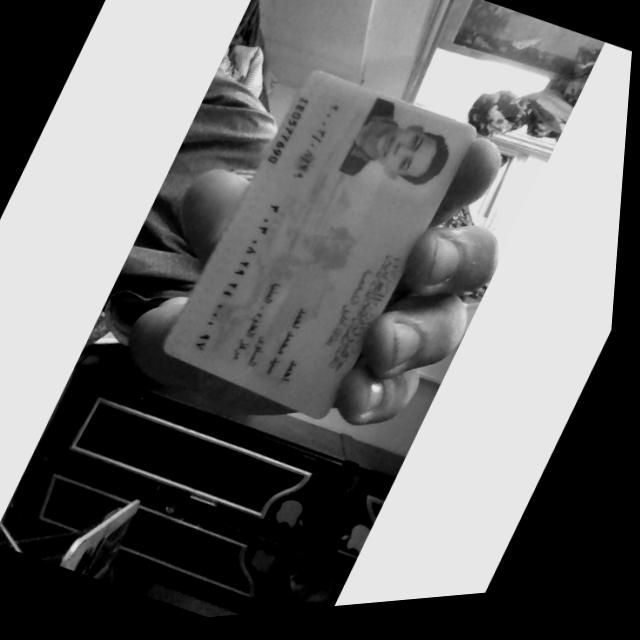id_card: (163, 71, 474, 418)
